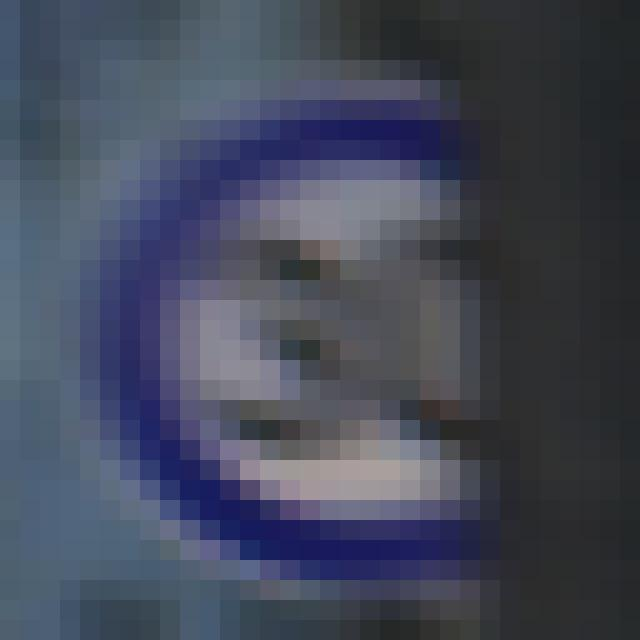SPEED LIMIT 30: (105, 97, 541, 584)
